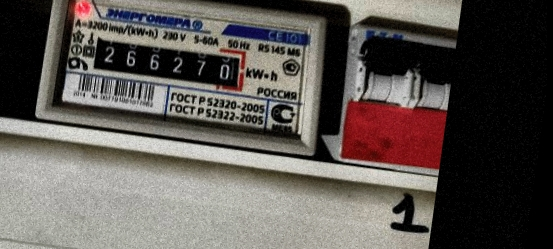0: (216, 60, 229, 81)
2: (100, 42, 117, 65), (169, 54, 184, 75)
6: (122, 47, 137, 69), (146, 51, 161, 71)
7: (192, 57, 206, 77)
screen: (78, 23, 257, 101)
